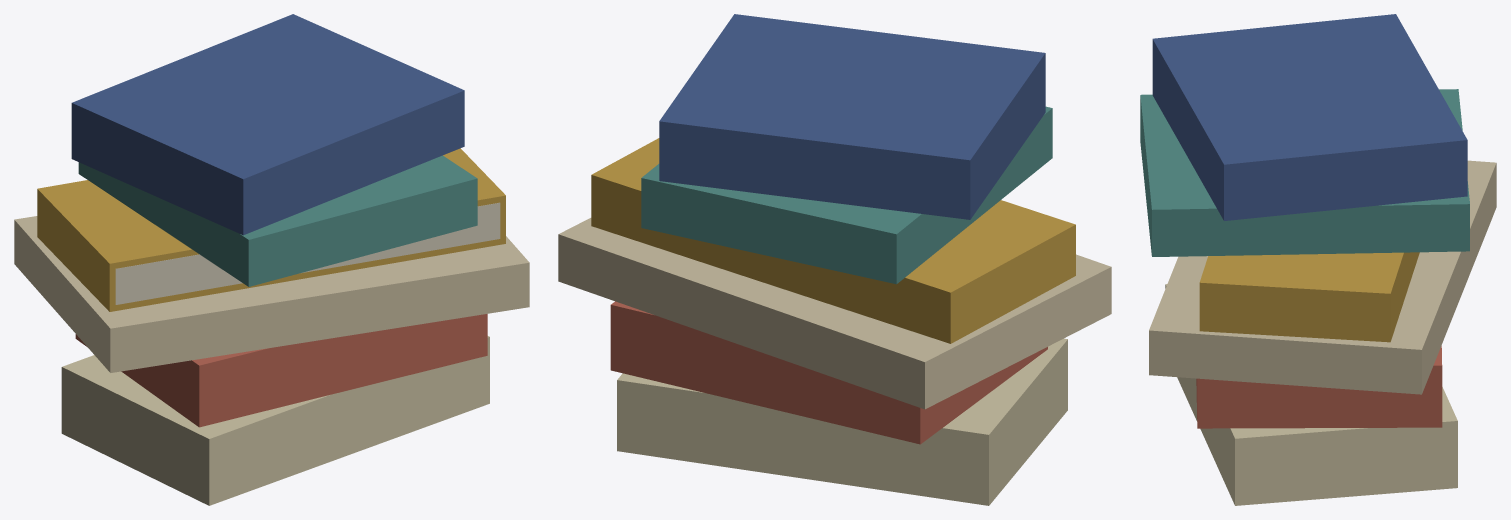
The model's file is book-stack-45.glb.
3 renders of one model, left to right at view 1: azimuth 30°, elevation 25°; view 2: azimuth 150°, elevation 25°; view 3: azimuth 270°, elevation 25°, orthographic. The views are drawn at different scales.
Parts seen in each view (by area): view 1: book_stack_45; view 2: book_stack_45; view 3: book_stack_45.
Part boxes in pixels (<box>): book_stack_45: <box>14,14,529,505</box>; book_stack_45: <box>558,14,1111,505</box>; book_stack_45: <box>1140,14,1496,505</box>.
Bounding box in the file's own units: 0.3237 × 0.2382 × 0.2357.
